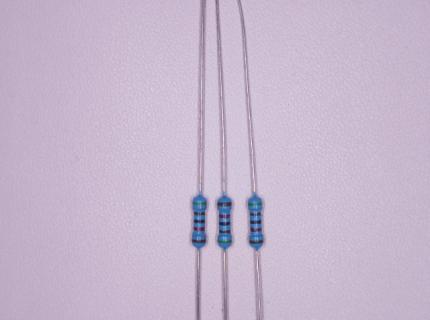Black band: (250, 220, 261, 224), (194, 219, 204, 223), (219, 222, 231, 225)
Brown band: (192, 238, 205, 243), (249, 239, 263, 243), (219, 229, 230, 234), (218, 202, 231, 206), (194, 211, 205, 215), (250, 212, 261, 216)
Green band: (192, 202, 206, 205), (248, 203, 262, 206), (218, 240, 231, 243)
Red band: (251, 227, 262, 232), (194, 227, 204, 231), (219, 215, 230, 218)
